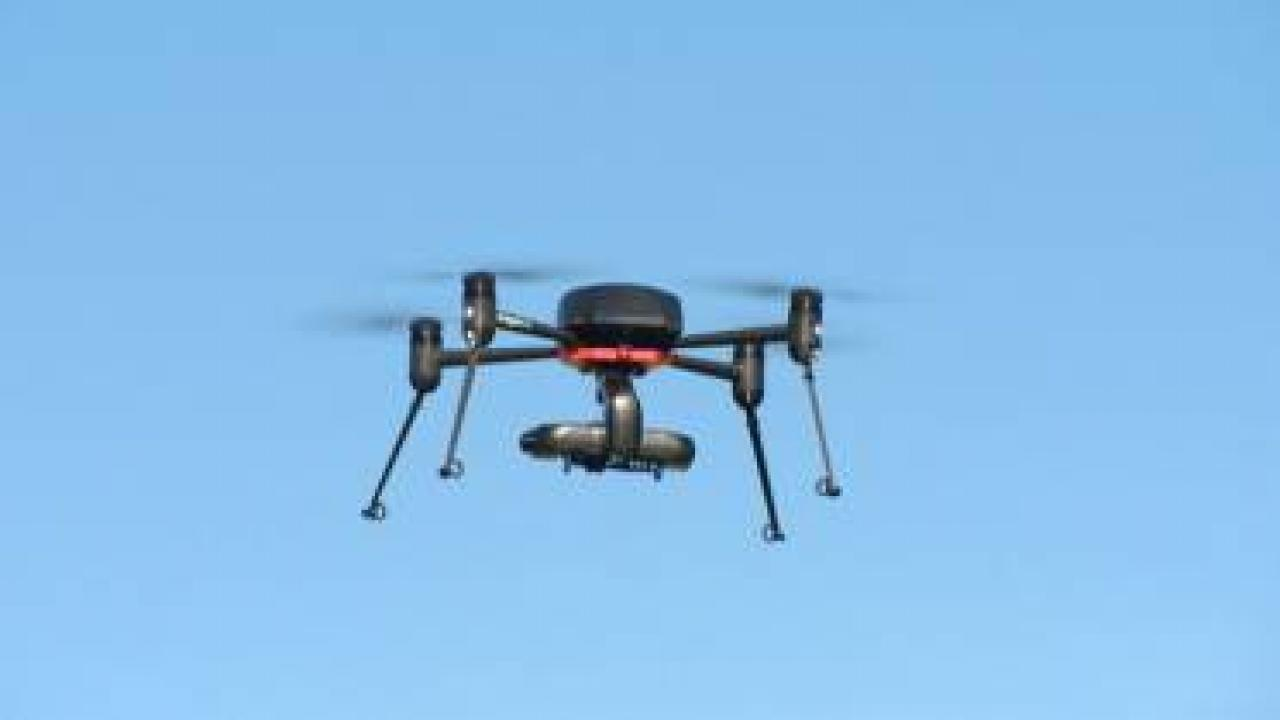Drone: (290, 243, 901, 552)
